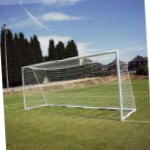goals: (21, 49, 139, 121)
